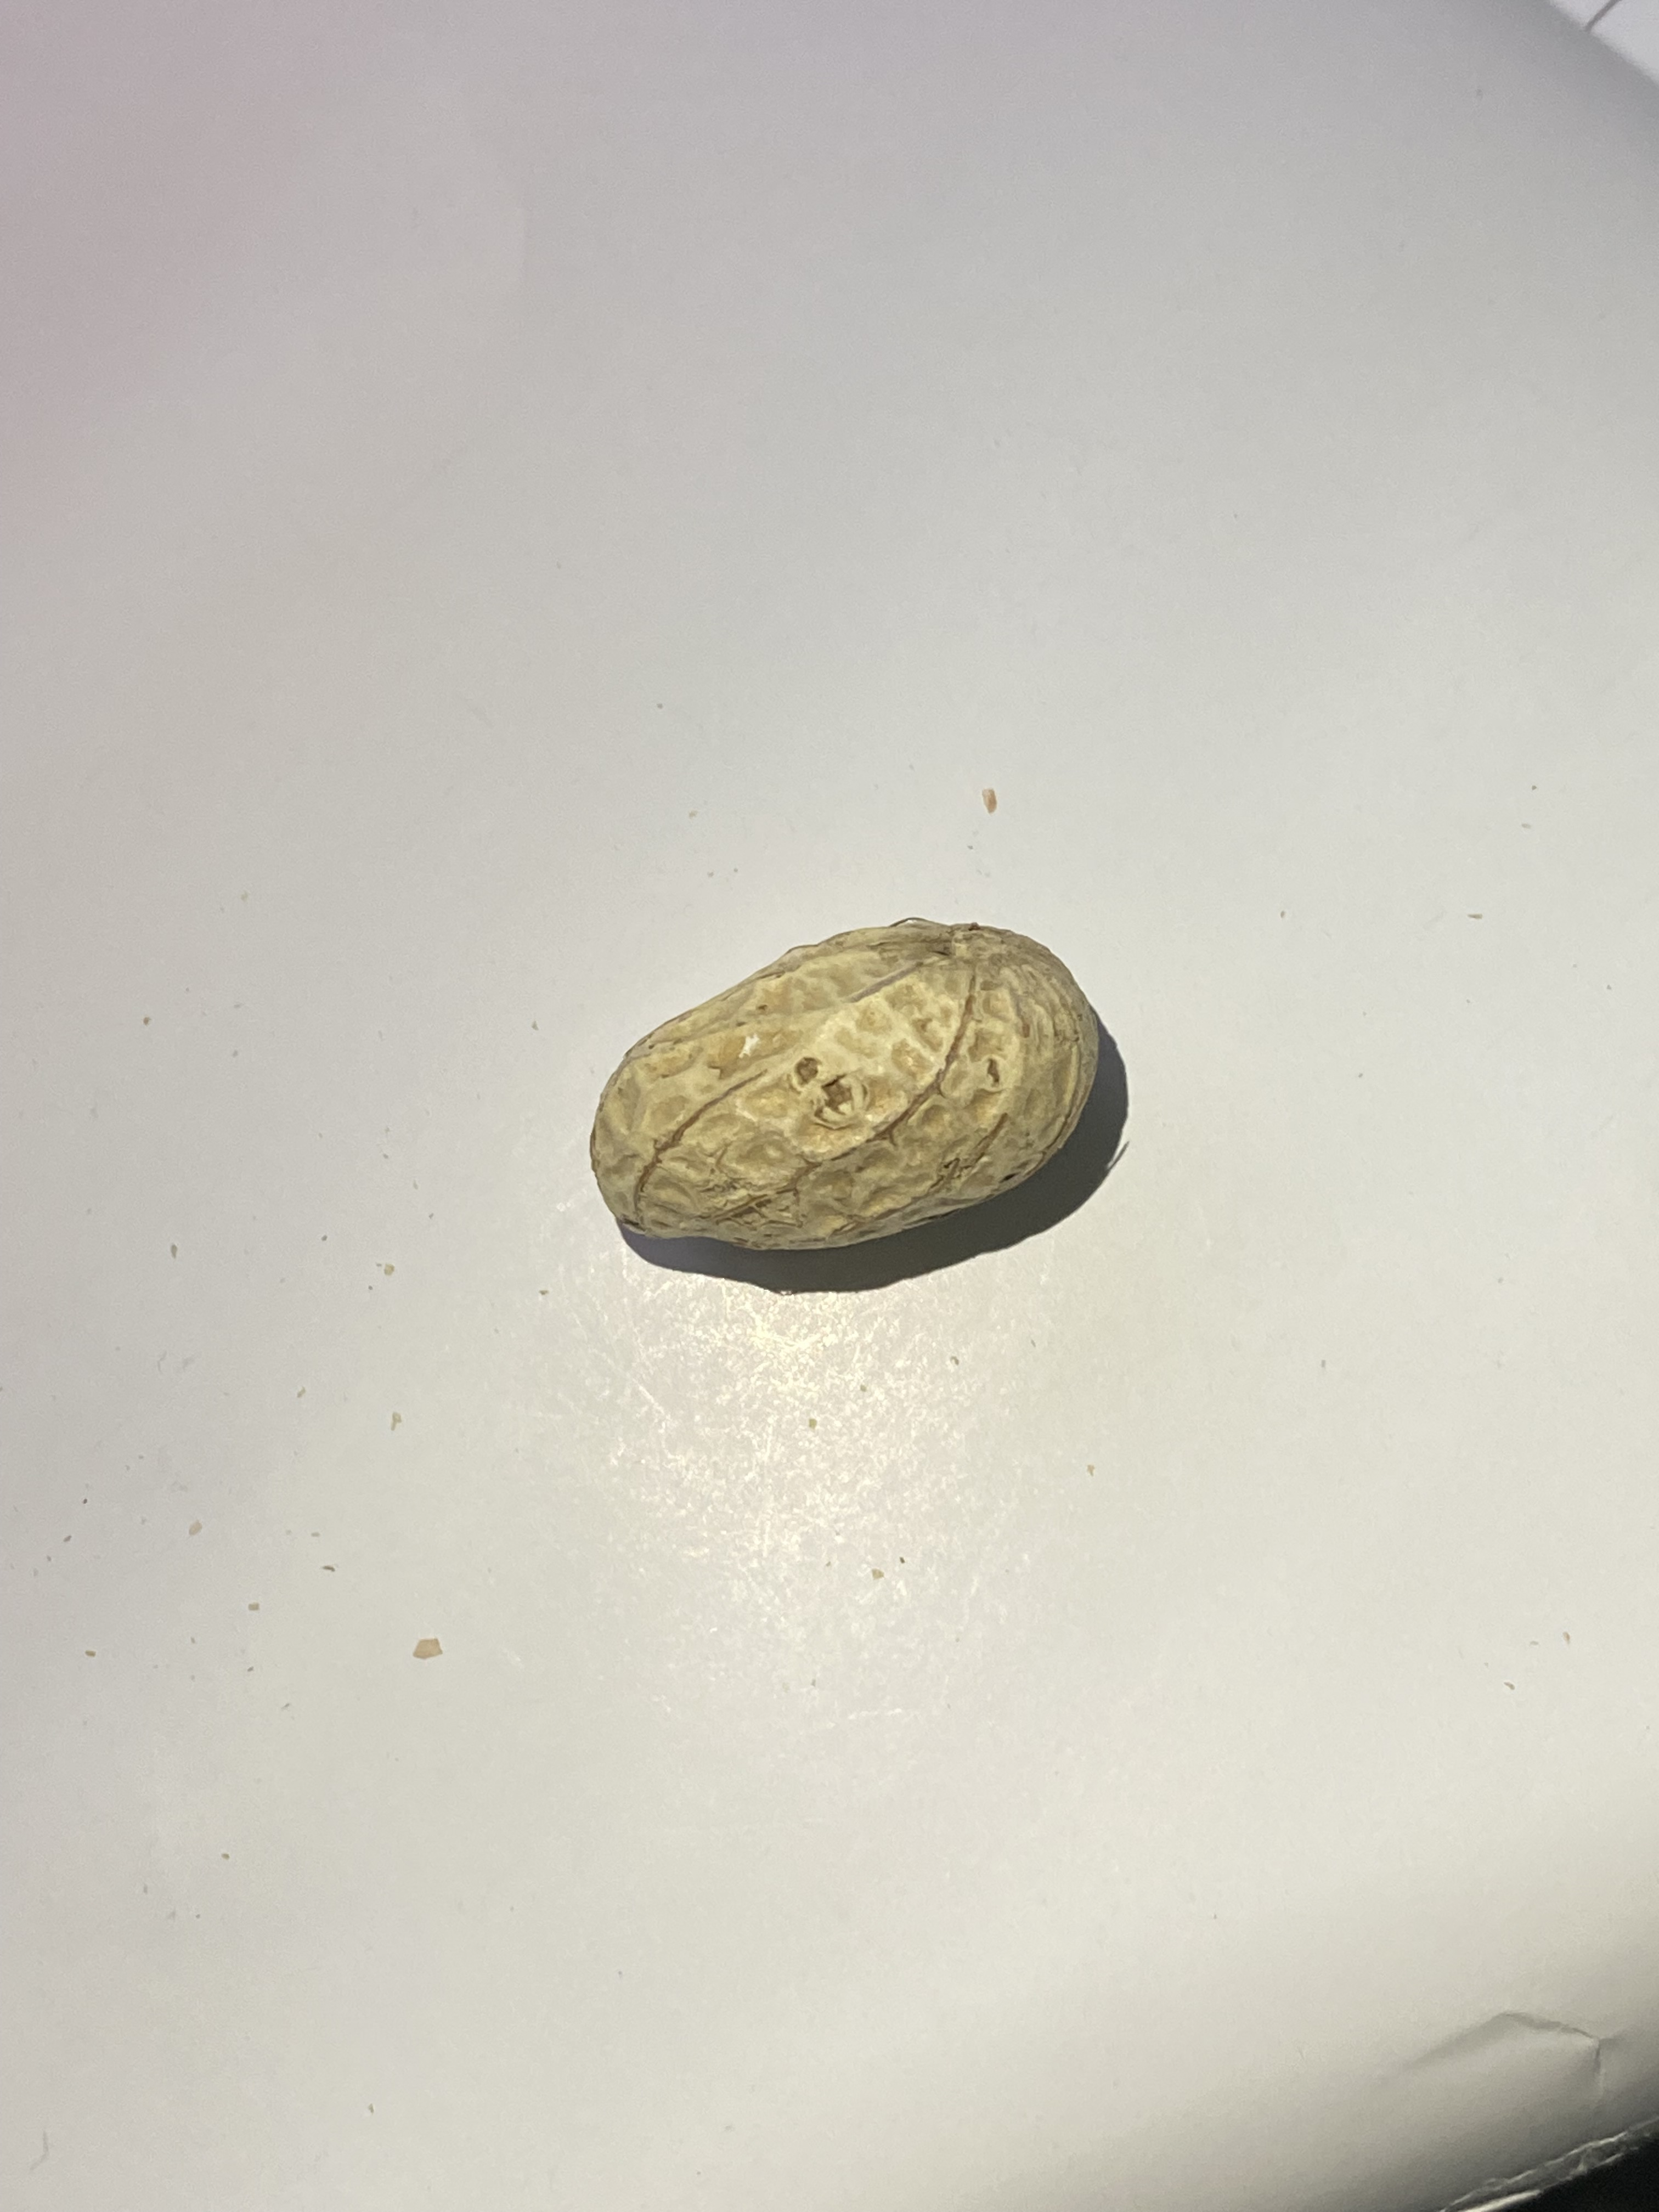kacang1: (573, 887, 1098, 1258)
